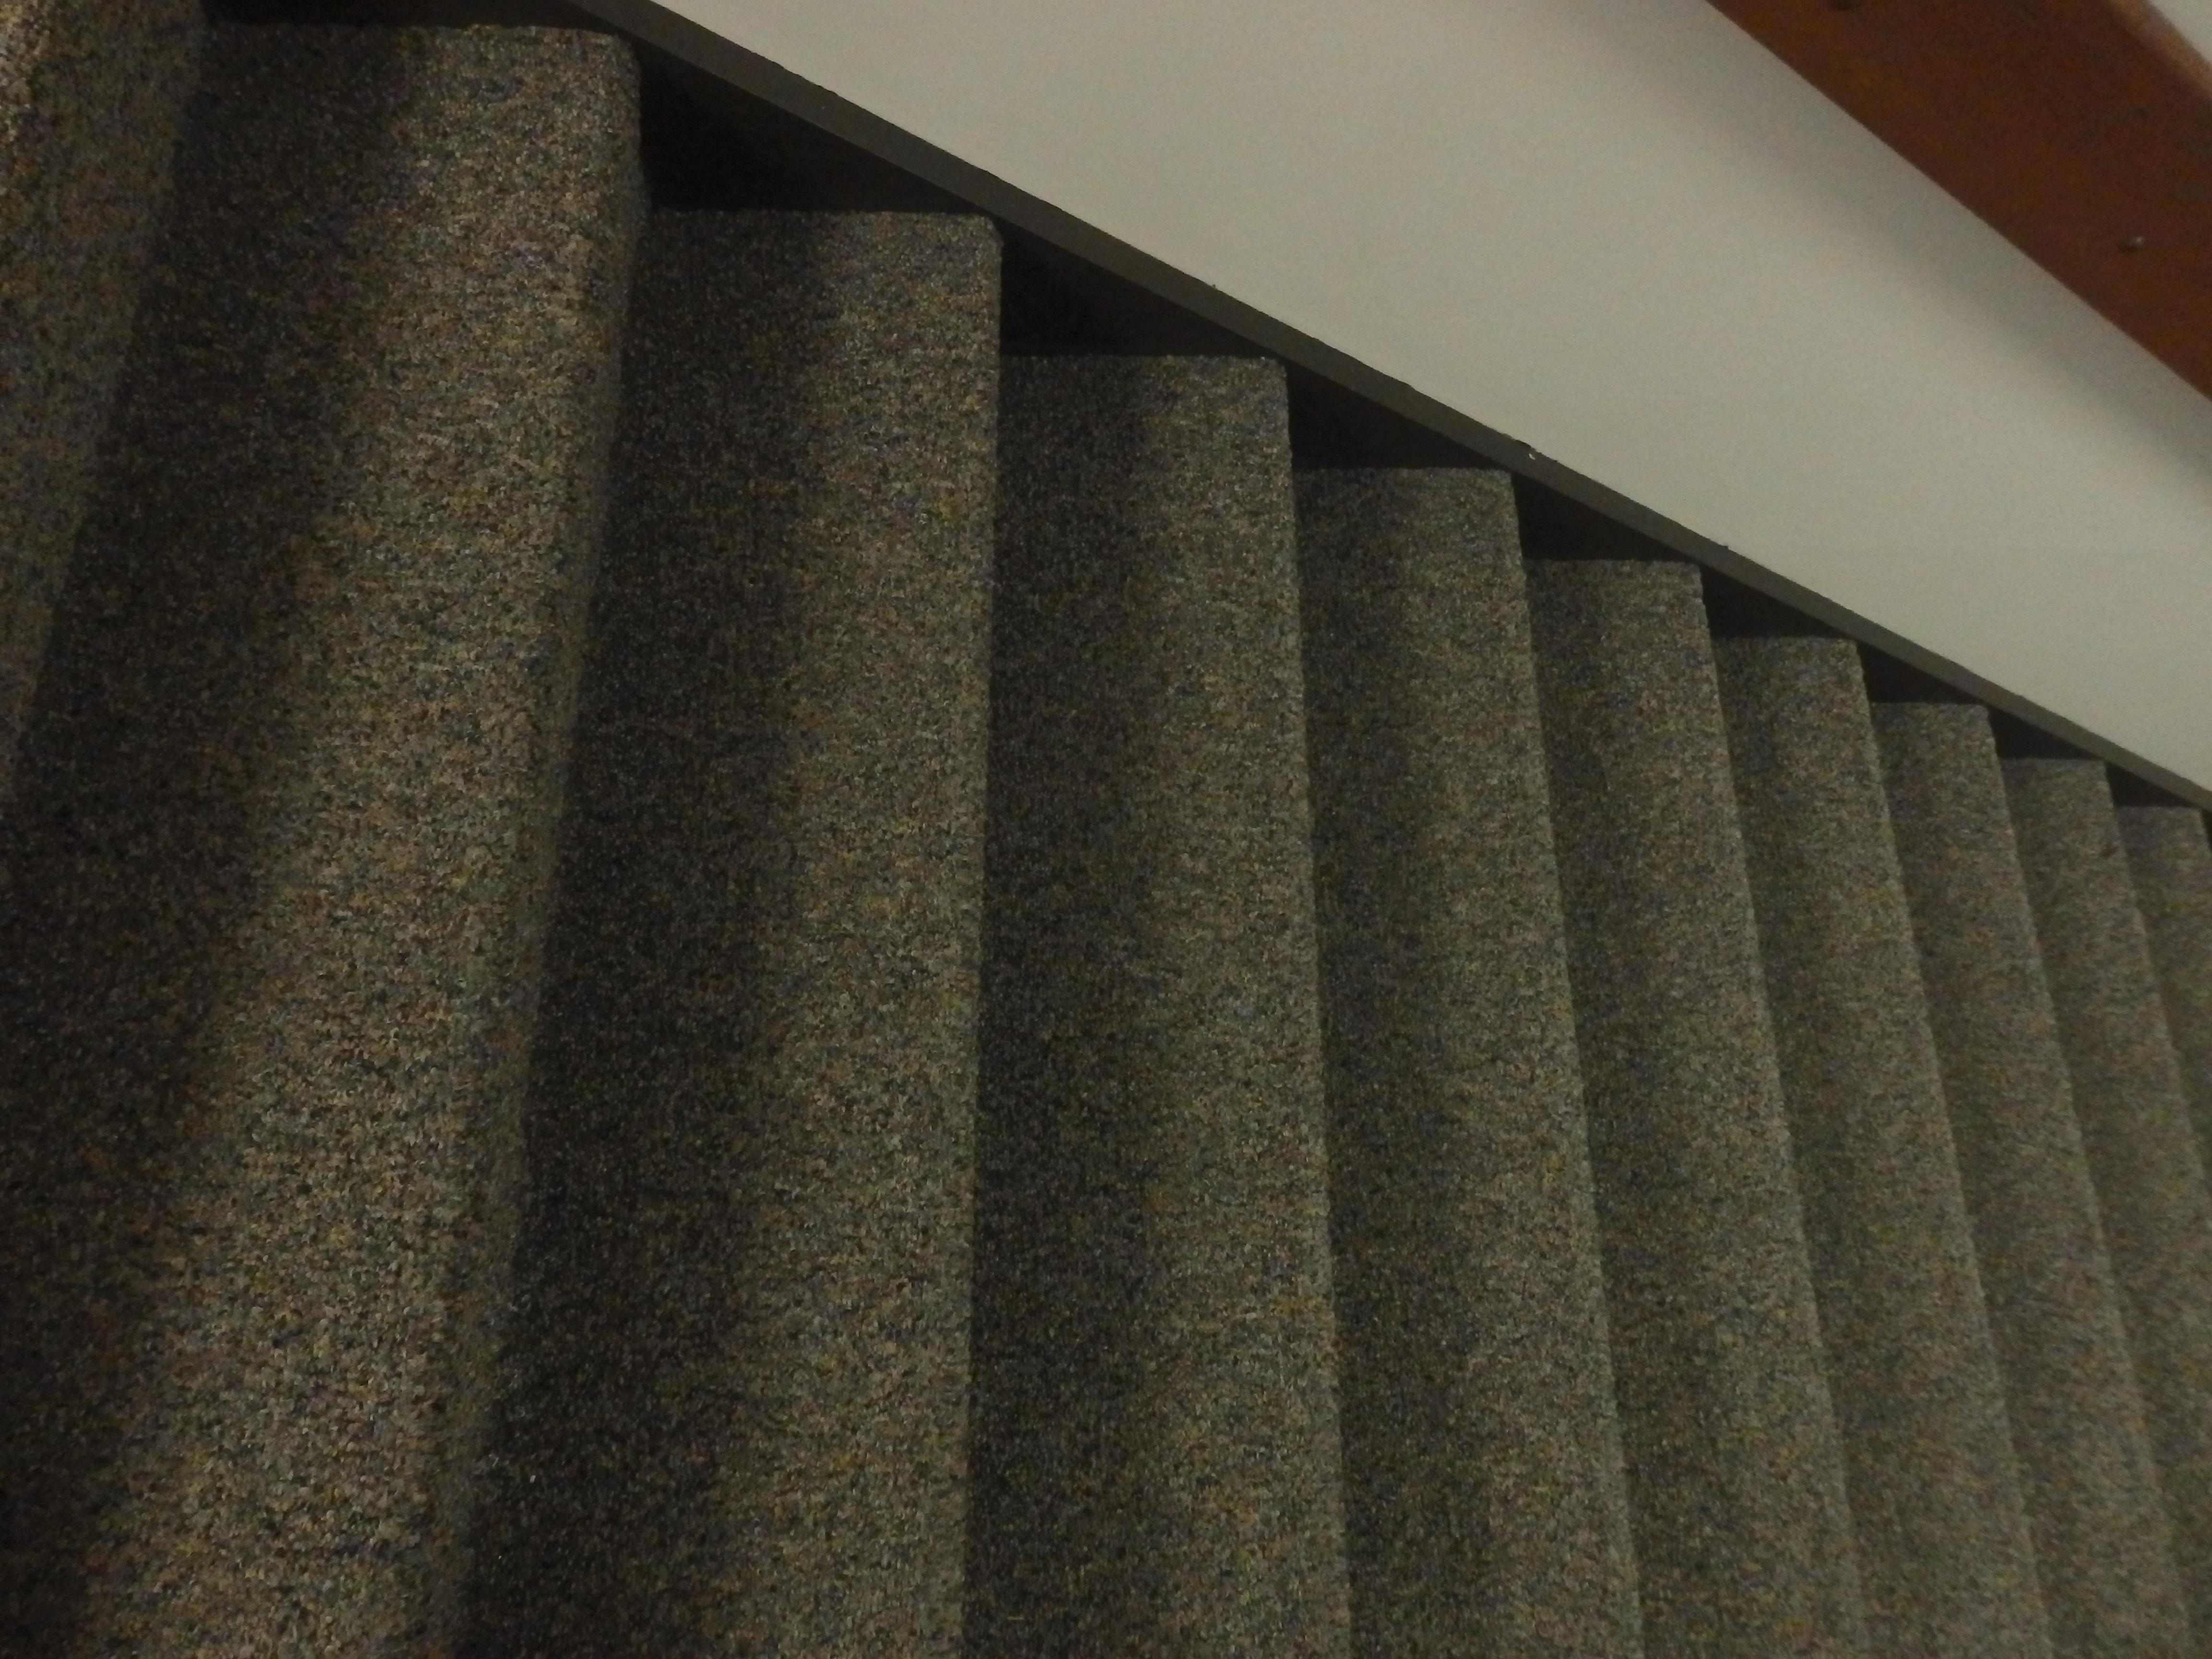stairs_down: (117, 277, 2073, 1504)
